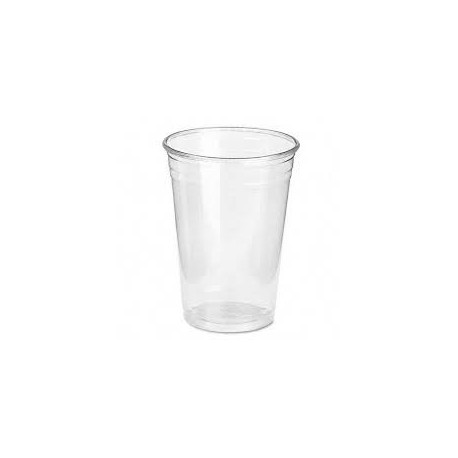plastic_glass: (159, 124, 303, 340)
